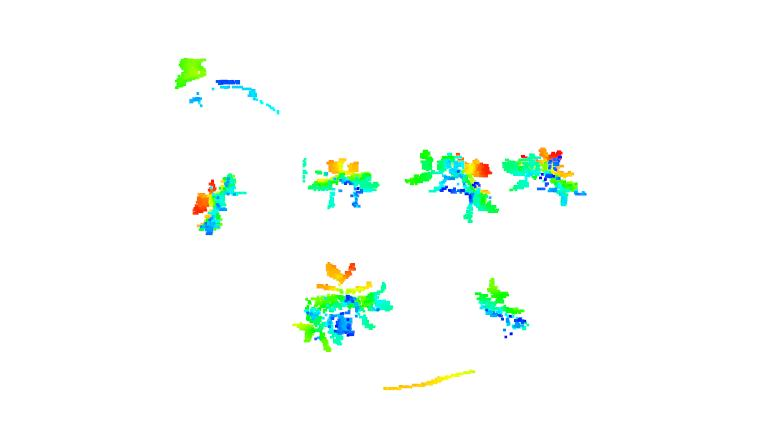chickpea: (294, 261, 396, 350), (401, 148, 502, 226), (498, 147, 581, 205), (306, 157, 382, 214), (189, 173, 247, 237), (475, 276, 528, 335)
